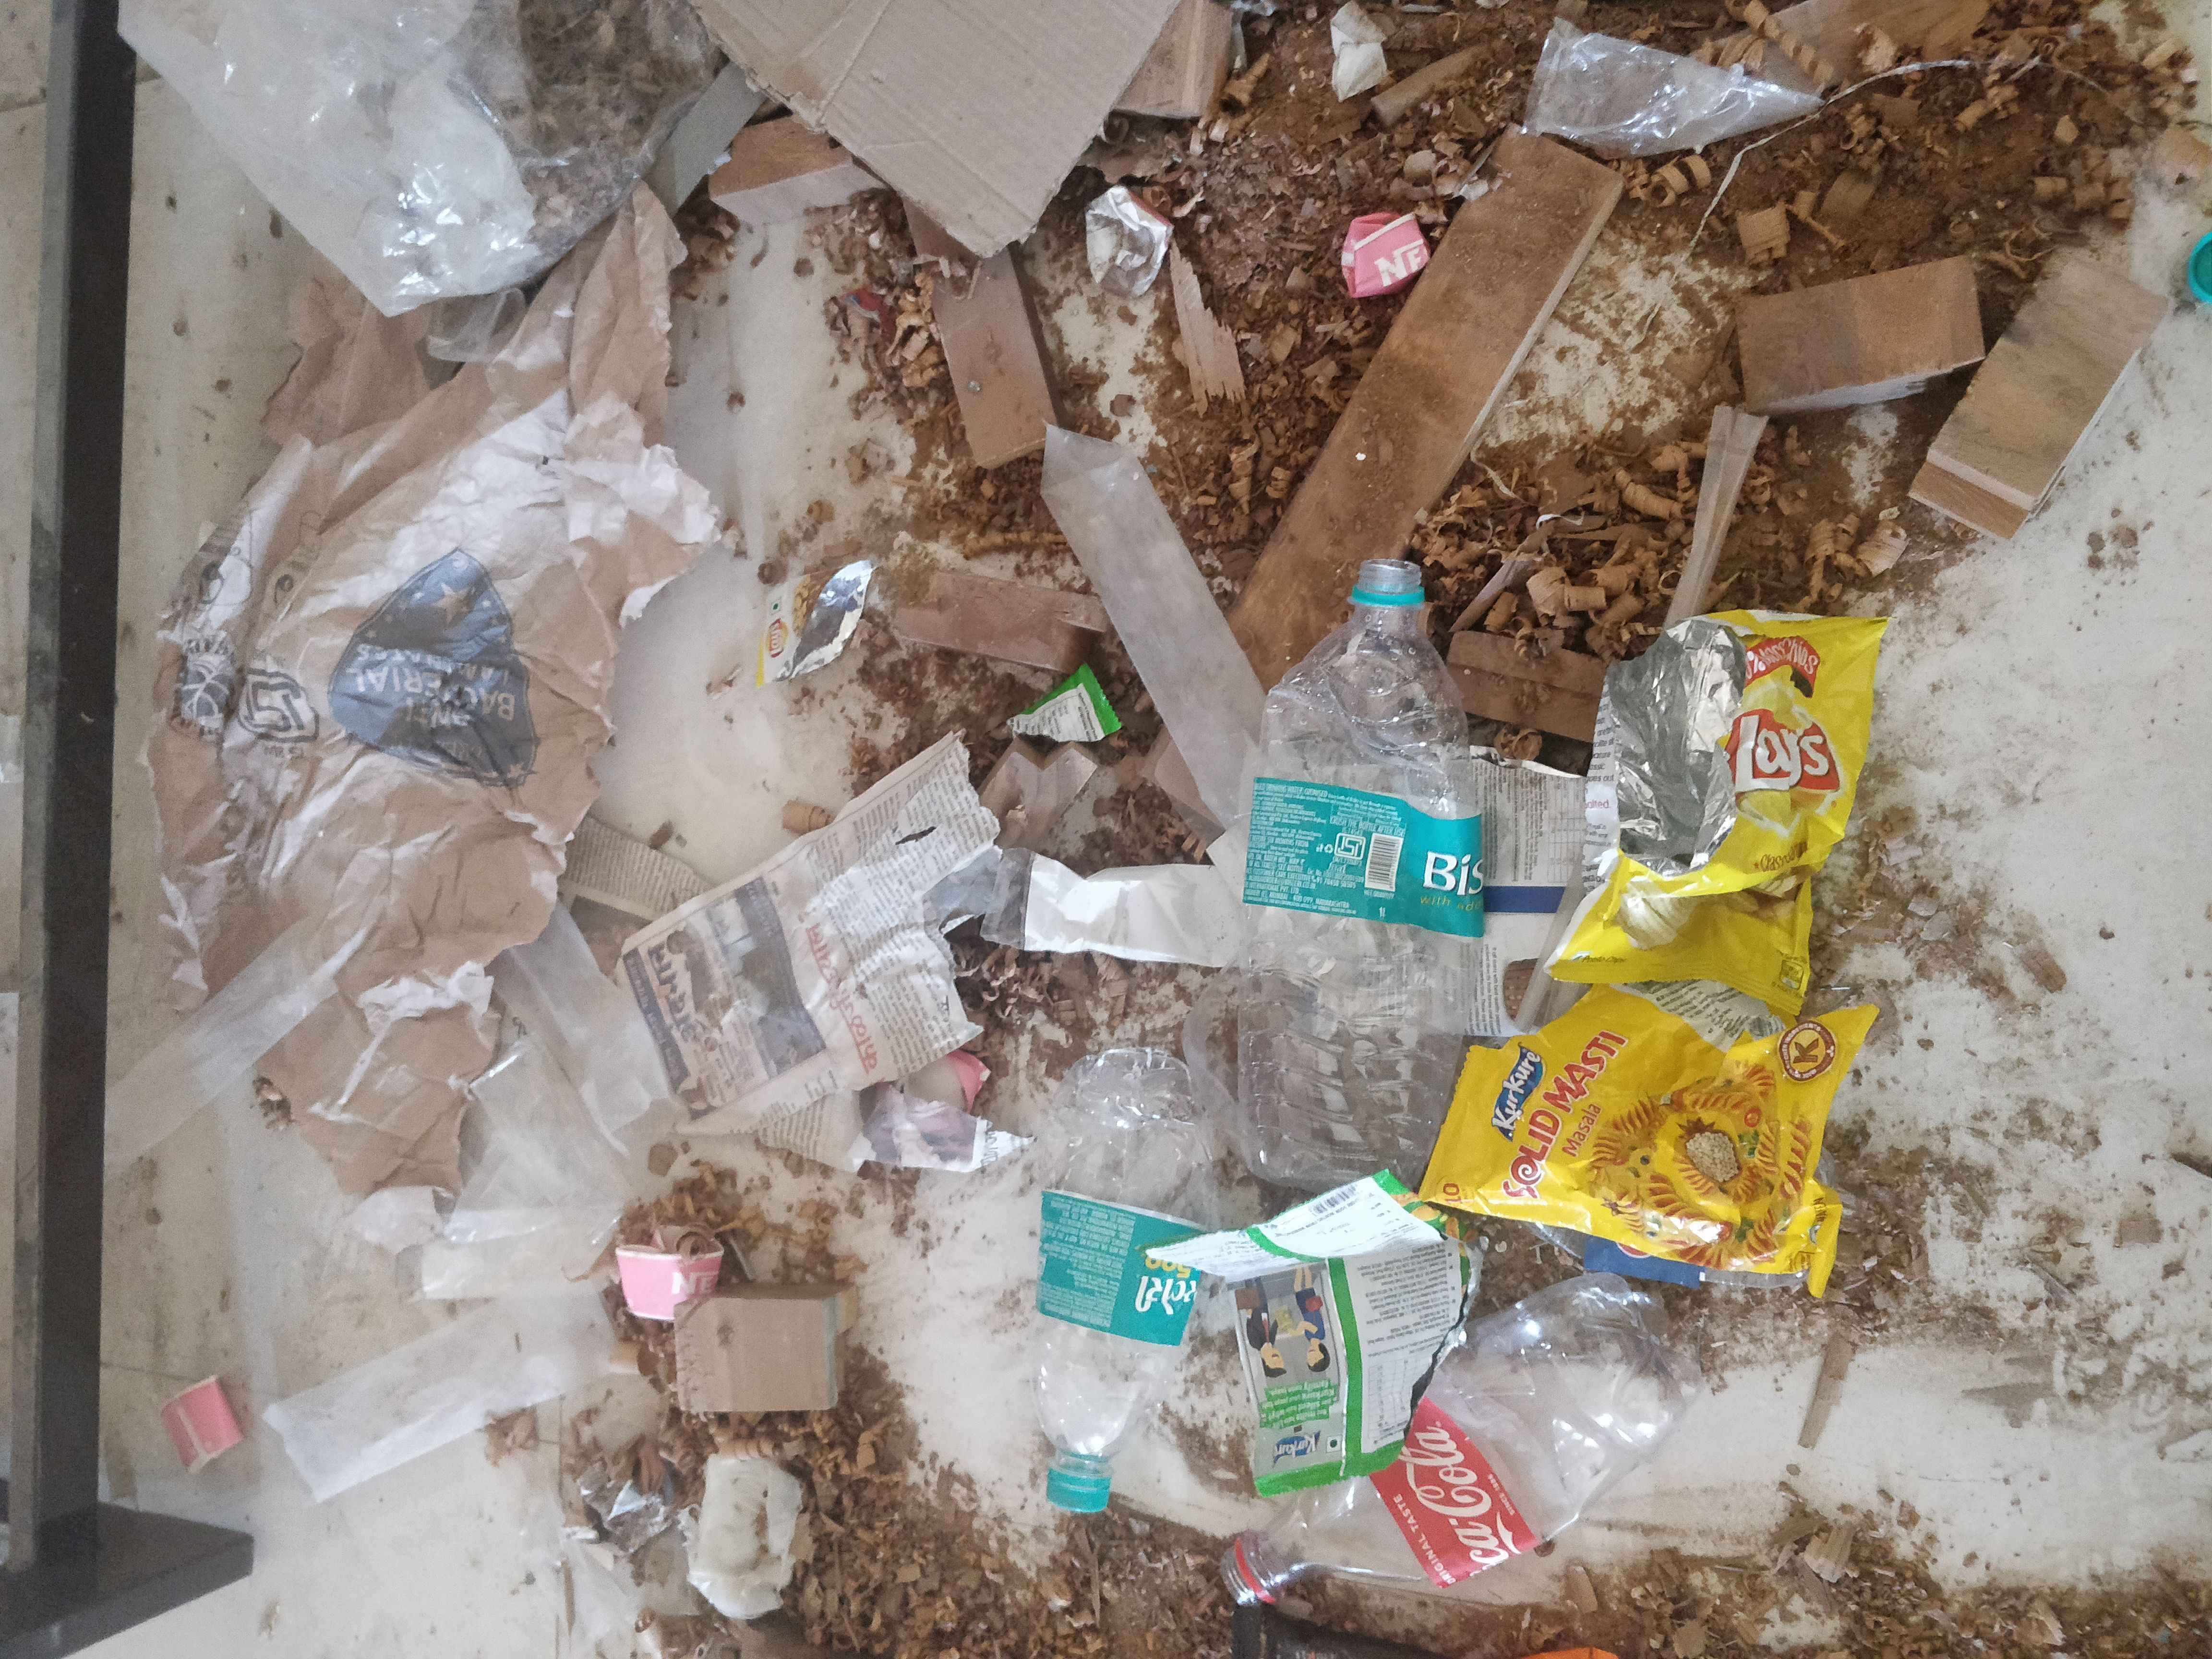Bisleri: (1364, 817, 1500, 911), (1075, 1234, 1221, 1321)
Coca-Cola: (1381, 1389, 1534, 1570)
Lays: (1686, 685, 1851, 812)
kurkure: (1472, 1033, 1557, 1152), (1268, 1427, 1327, 1474)
